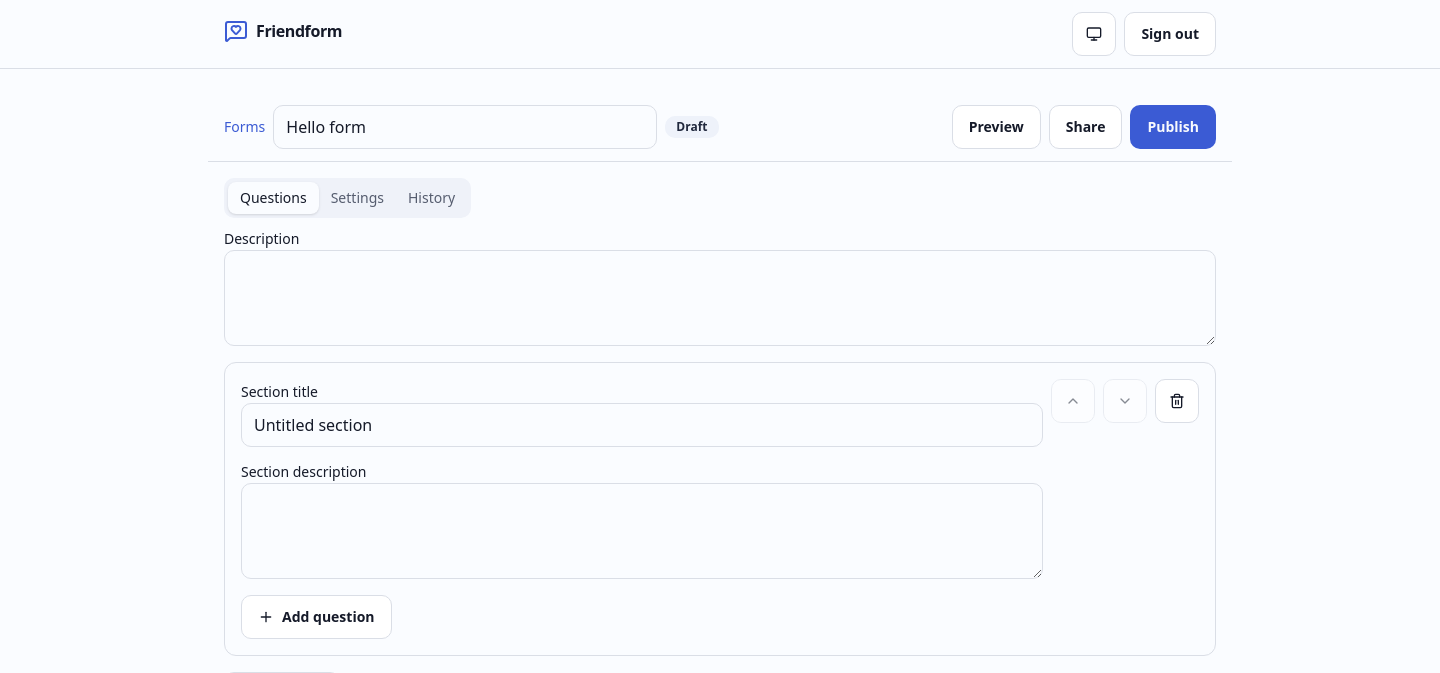
Test: SettingsTab › shows the taken message when the slug returns 409
The image size is (1440, 673).
Click the tab "Settings". click: (357, 198)
box: [319,182,396,214]
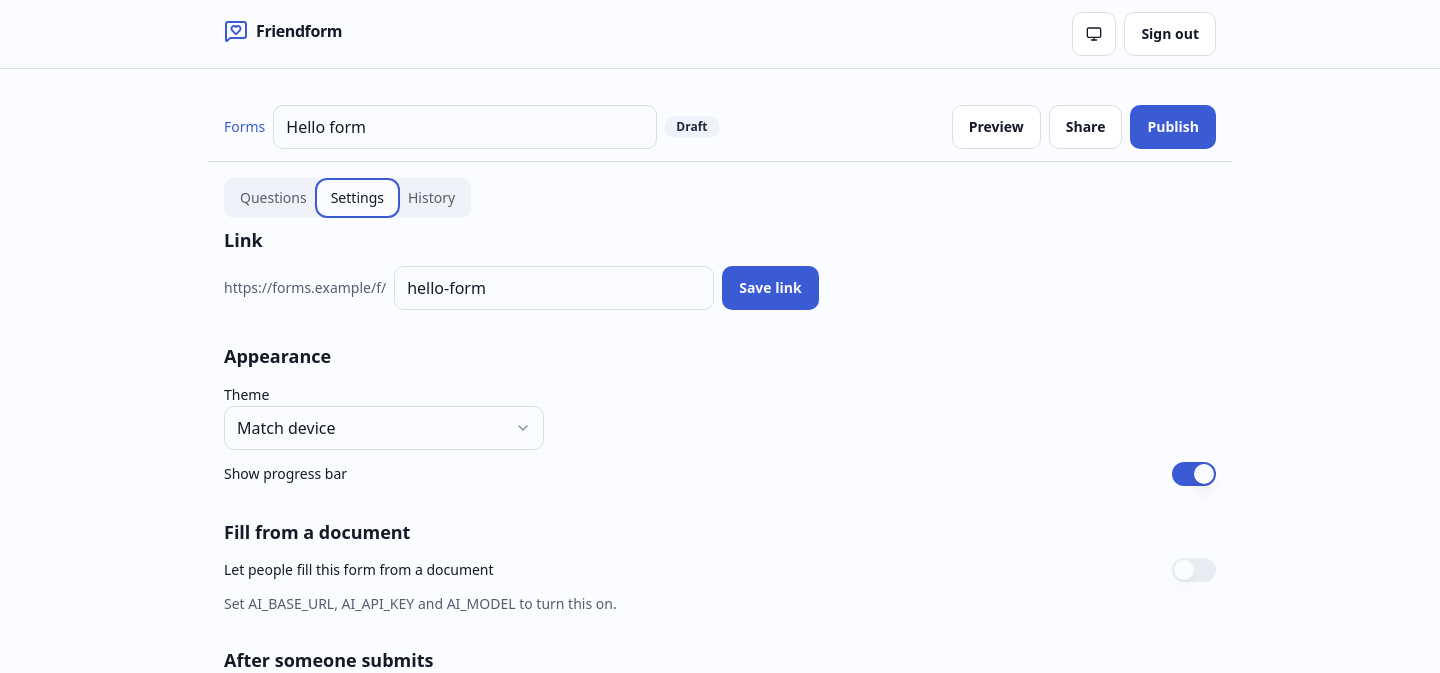
Replace the text in the field named "Link" with "taken-name". click: (554, 288)
box: [394,266,714,310]
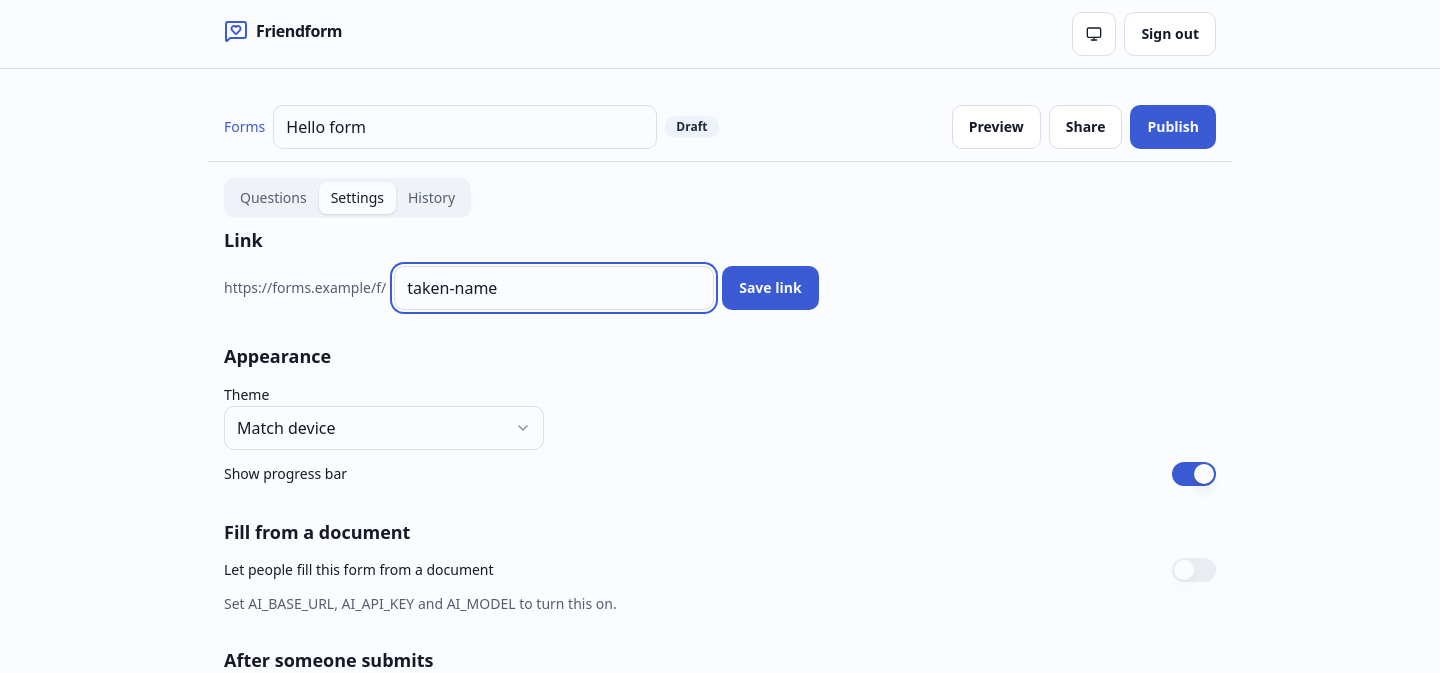
Click the button "Save link". click: (770, 288)
box: [722,266,819,310]
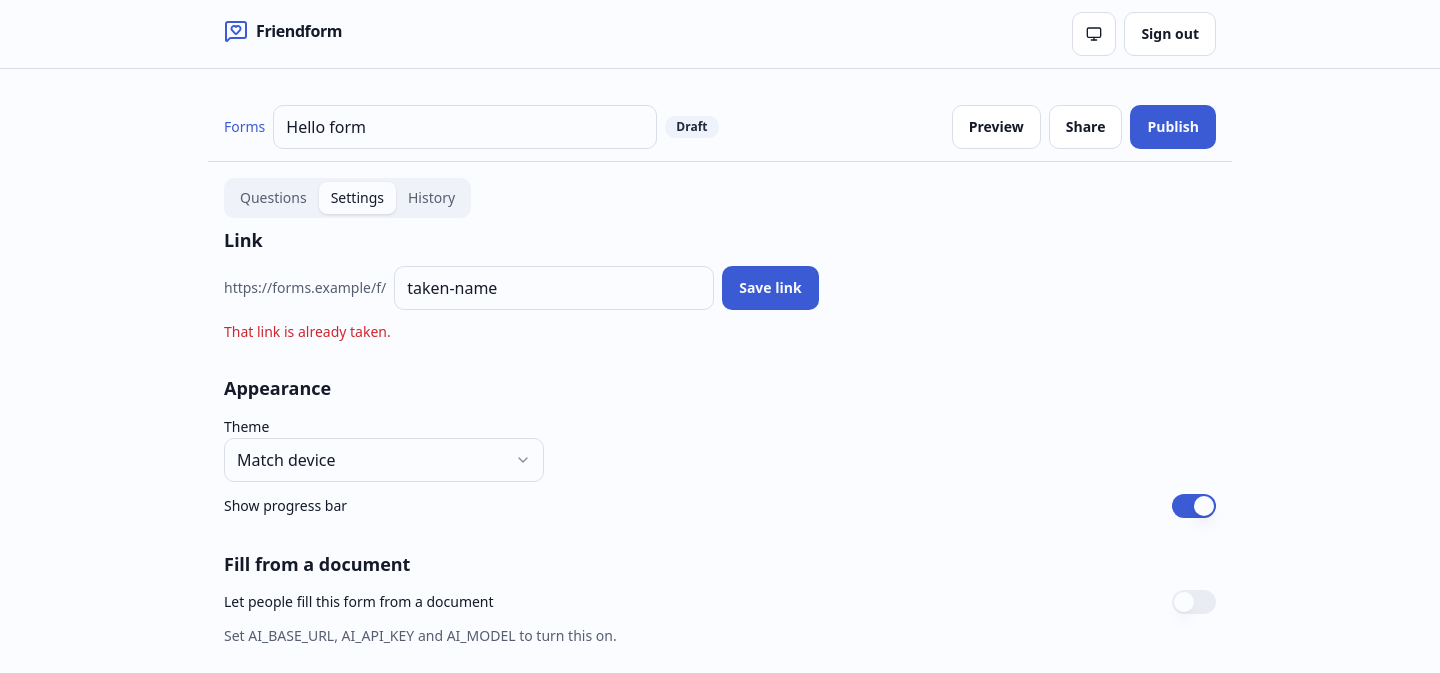
Check: the text "That link is already taken." is shown, box [224,322,391,341]
